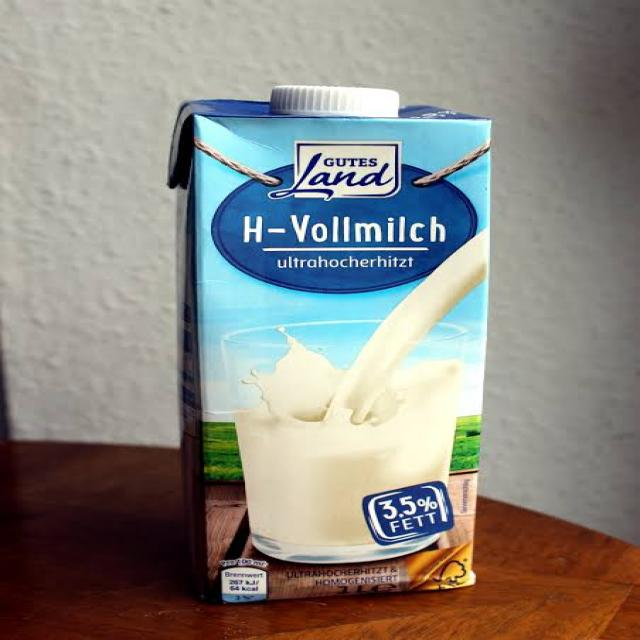drink carton: (153, 73, 516, 623)
